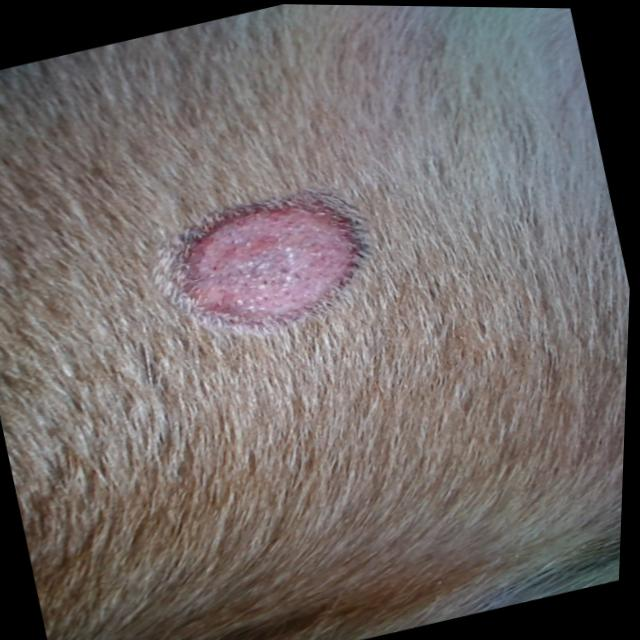ringworm: (145, 157, 405, 365)
